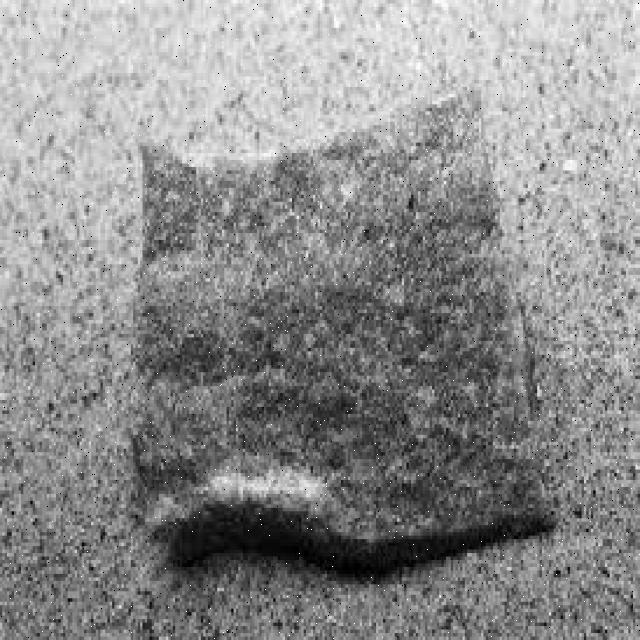Metamorphic: (117, 121, 568, 556)
